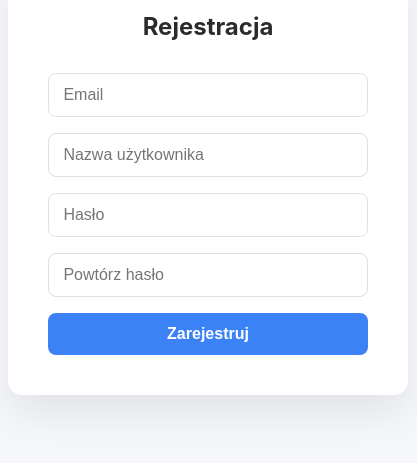
Test: Register › błąd gdy hasła się różnią
This screenshot has width=417, height=463.
Type "abc123" into the password field with placeholder "Hasło" at (208, 215), box [48,193,368,237]
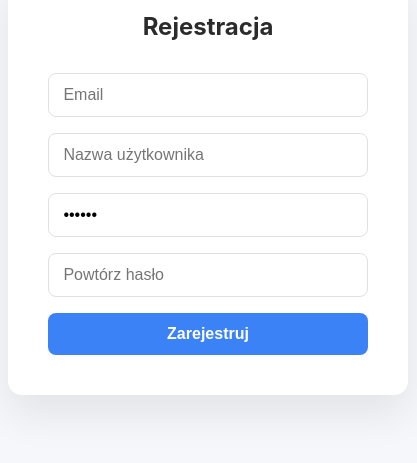
Type "xyz999" into the password field with placeholder "Powtórz hasło" at (208, 275), box [48,253,368,297]
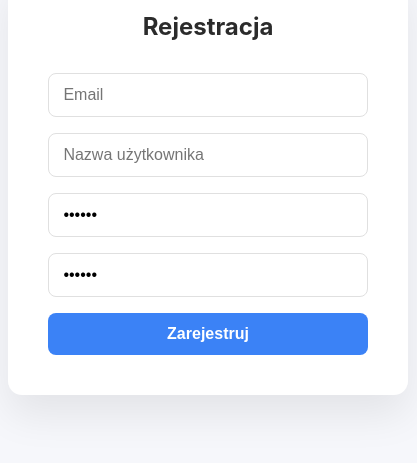
Click the button "Zarejestruj" at (208, 334), box [48,313,368,355]
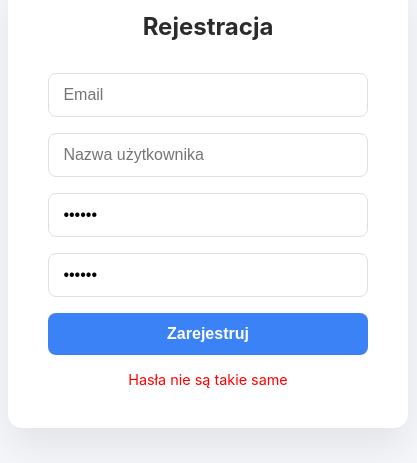
Now the text "Hasła nie są takie same" is shown, box [128,371,288,388]
